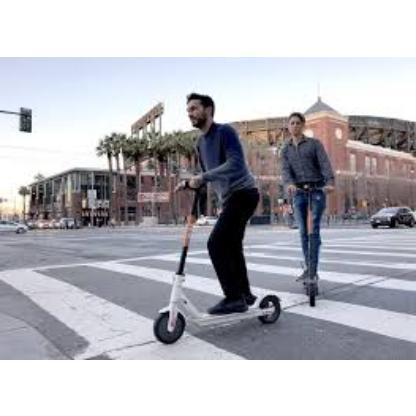with scooter: (154, 94, 281, 344), (281, 112, 332, 308)
